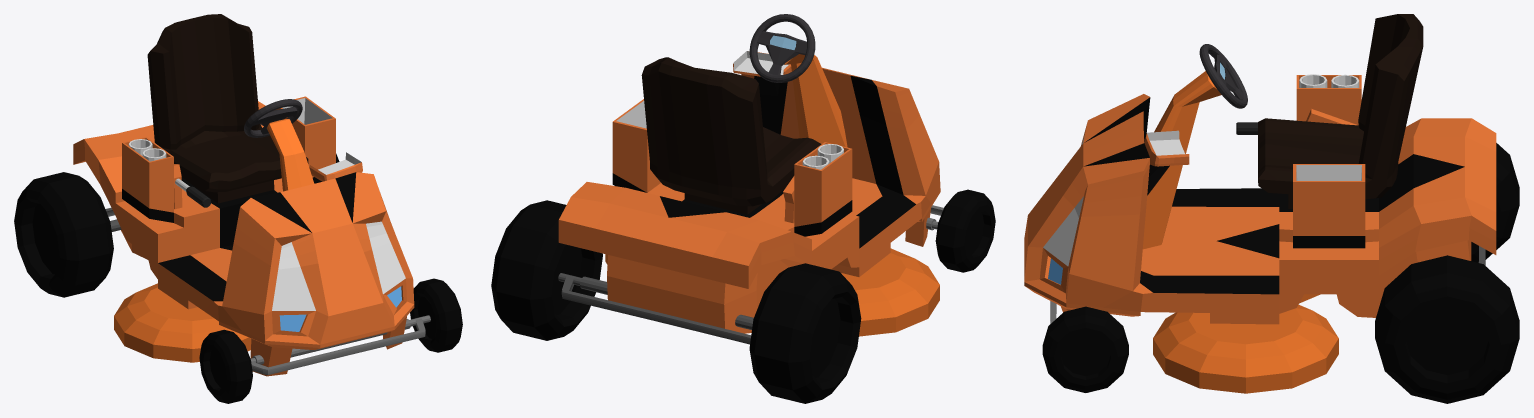
The model's file is Lawnmover_Main 1.fbx.
The picture shows the model from 3 angles, left to right: view 1: azimuth 30°, elevation 25°; view 2: azimuth 150°, elevation 25°; view 3: azimuth 270°, elevation 25°; orthographic projection. The views are drawn at different scales.
Parts seen in each view (by area): view 1: holder, chair, back whil R, cutter R, bad front whil R, bad front whil L, bad front while cylinder, stiring pole, stiring whil; view 2: holder, chair, back whil R, back whil L, cutter R, bad front whil R, stiring pole, back while cylinder, stiring whil; view 3: holder, back whil L, chair, cutter L, bad front whil L, stiring pole, back whil R, stiring whil.
Boxes of the visible parts, <box> form: holder: <box>73,96,414,376</box>; chair: <box>147,14,308,203</box>; back whil R: <box>14,172,113,297</box>; cutter R: <box>114,283,251,362</box>; bad front whil R: <box>199,329,252,403</box>; bad front whil L: <box>410,278,462,352</box>; bad front while cylinder: <box>250,315,430,375</box>; stiring pole: <box>266,119,314,191</box>; stiring whil: <box>244,99,302,137</box>; holder: <box>558,51,940,333</box>; chair: <box>641,57,821,214</box>; back whil R: <box>749,263,861,403</box>; back whil L: <box>491,200,602,340</box>; cutter R: <box>841,248,939,336</box>; bad front whil R: <box>935,189,995,272</box>; stiring pole: <box>784,54,847,147</box>; back while cylinder: <box>558,273,753,344</box>; stiring whil: <box>749,14,815,82</box>; holder: <box>1024,75,1496,324</box>; back whil L: <box>1375,255,1519,403</box>; chair: <box>1258,14,1423,208</box>; cutter L: <box>1153,304,1338,393</box>; bad front whil L: <box>1042,306,1128,392</box>; stiring pole: <box>1143,71,1221,249</box>; back whil R: <box>1471,143,1519,262</box>; stiring whil: <box>1199,44,1247,108</box>.
Size of the model in its own units: 3154 by 2693 by 4026.
